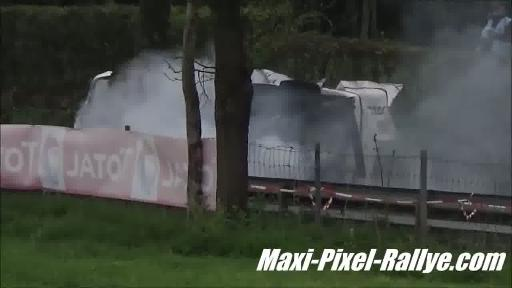Accident-fire-smoke: (151, 31, 447, 200)
